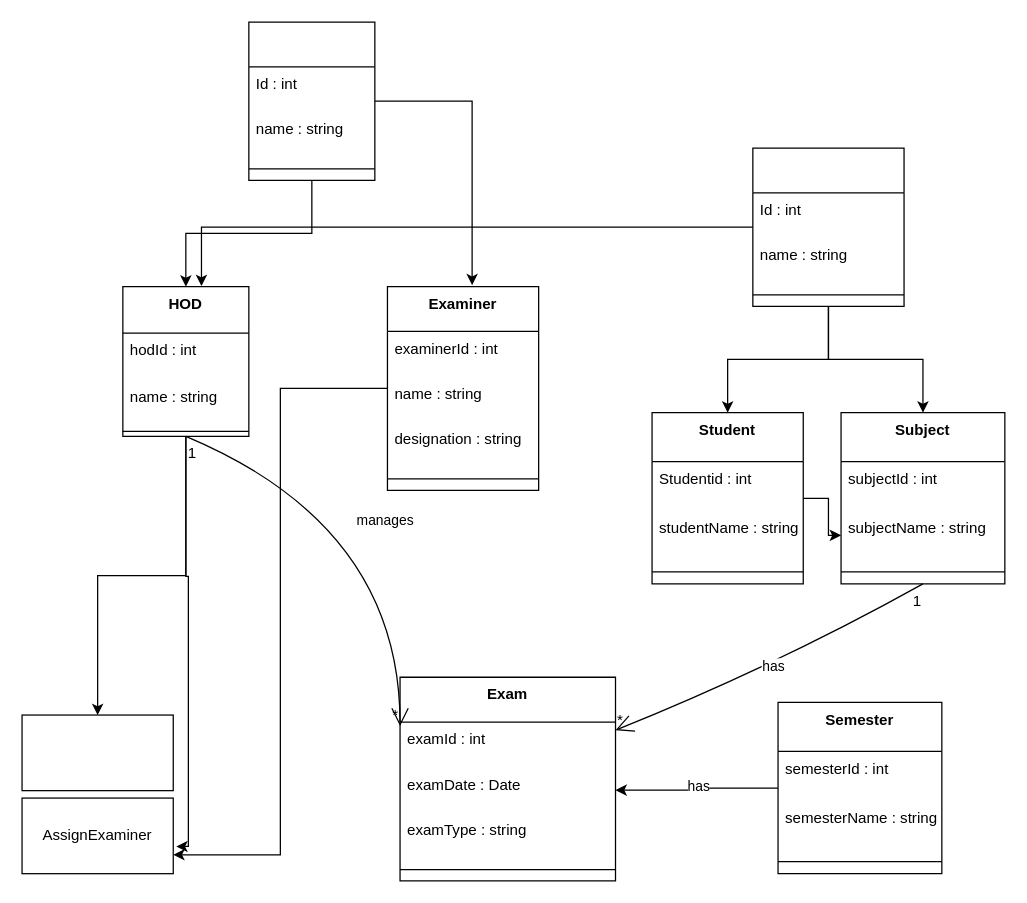
The diagram is 1027 pixels wide and 903 high, and some of its shapes have lost their labels. The shapes that lost their labels are listed below. From the top down, each one's box as (x1, y1, x2, y2) in pixels, then its label:
(248, 21, 375, 180): Role
(752, 147, 904, 306): Department
(21, 714, 173, 791): ScheduleExam
